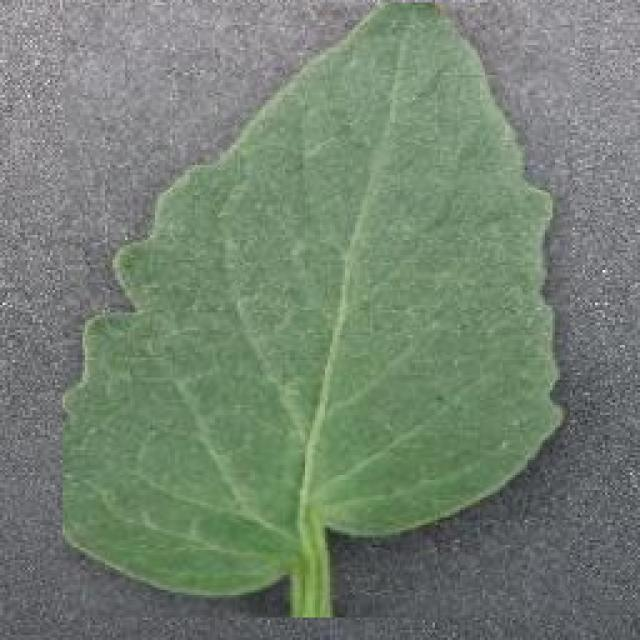Healthy: (62, 2, 570, 618)
